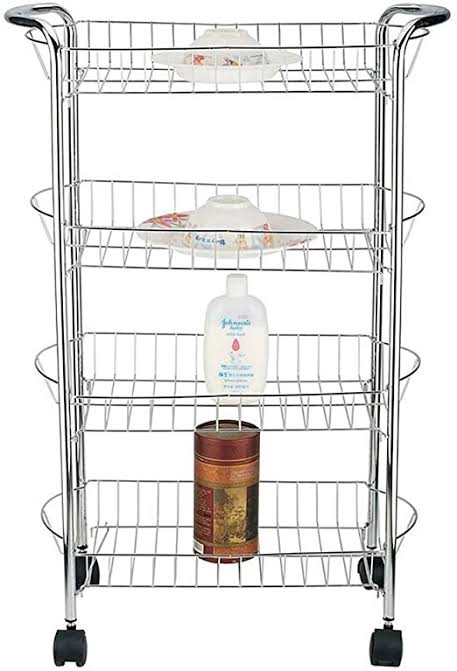Carts: (2, 1, 452, 670)
